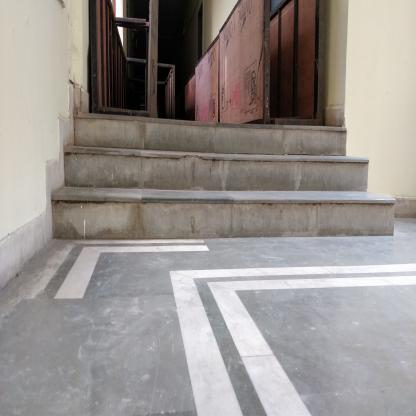stairs: (87, 117, 337, 246)
